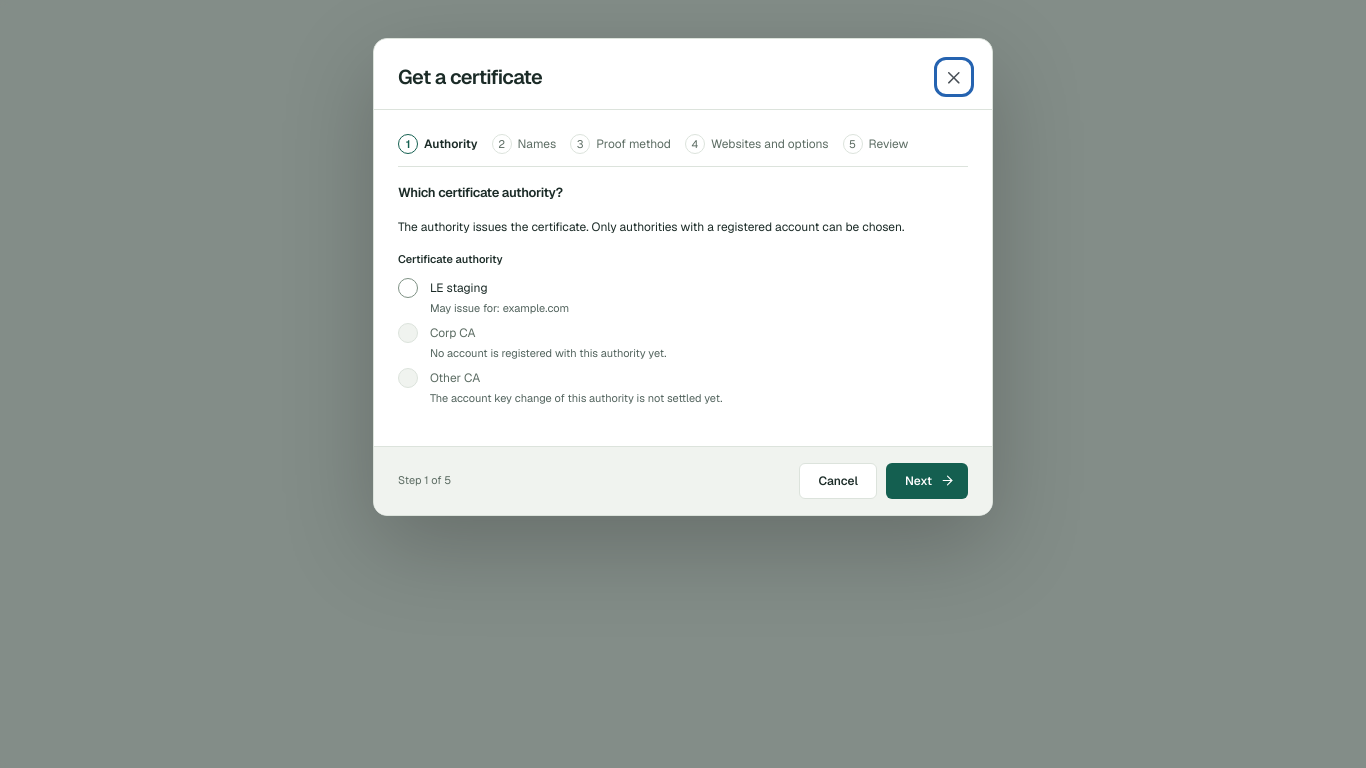
Scenario: Get a certificate › refuses the name bad_name.example.com before sending anything
Click the radio button labelled "LE staging".
click(408, 288)  # box [398,278,418,298]
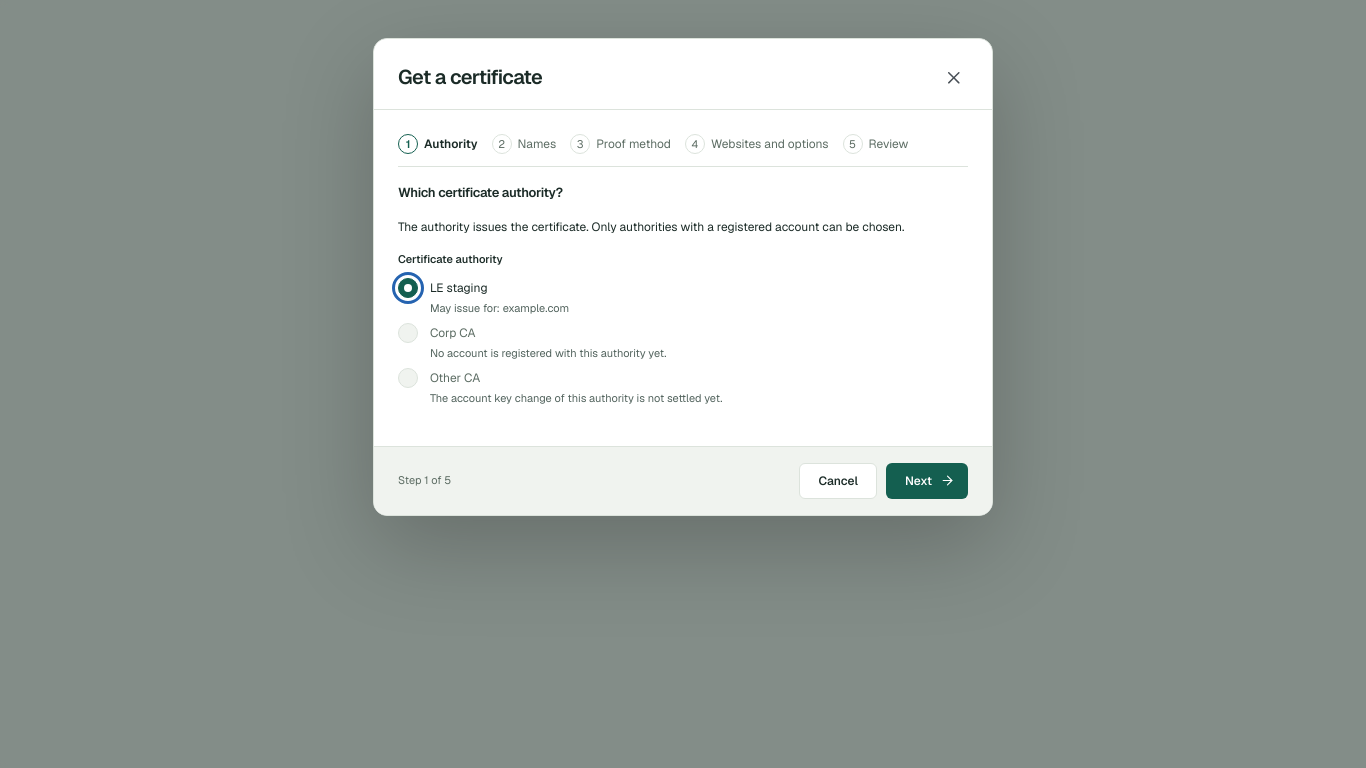
Click the button "Next".
click(927, 480)  # box [886,462,968,498]
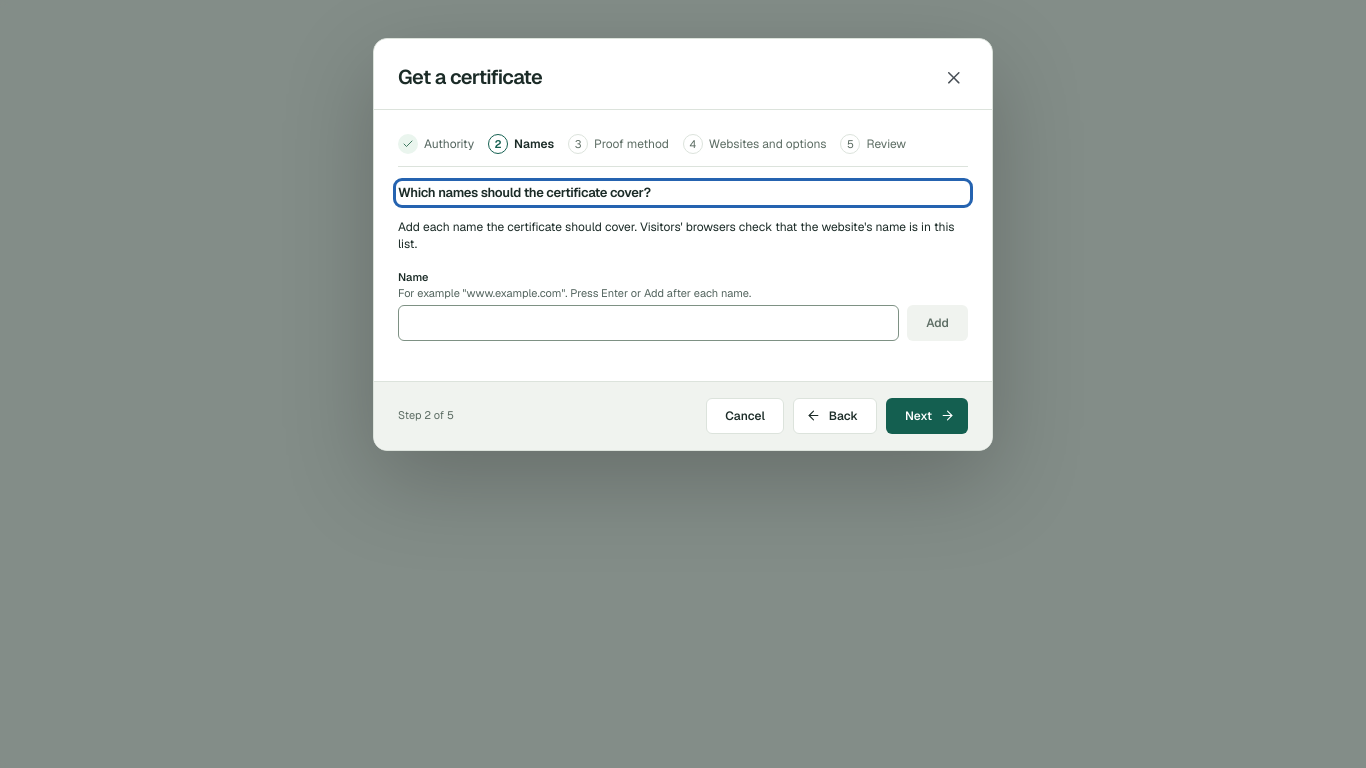
Type "bad_name.example.com" into the field labelled "Name".
click(649, 322); type("bad_name.example.com")  # box [398,304,899,340]
Then press Enter
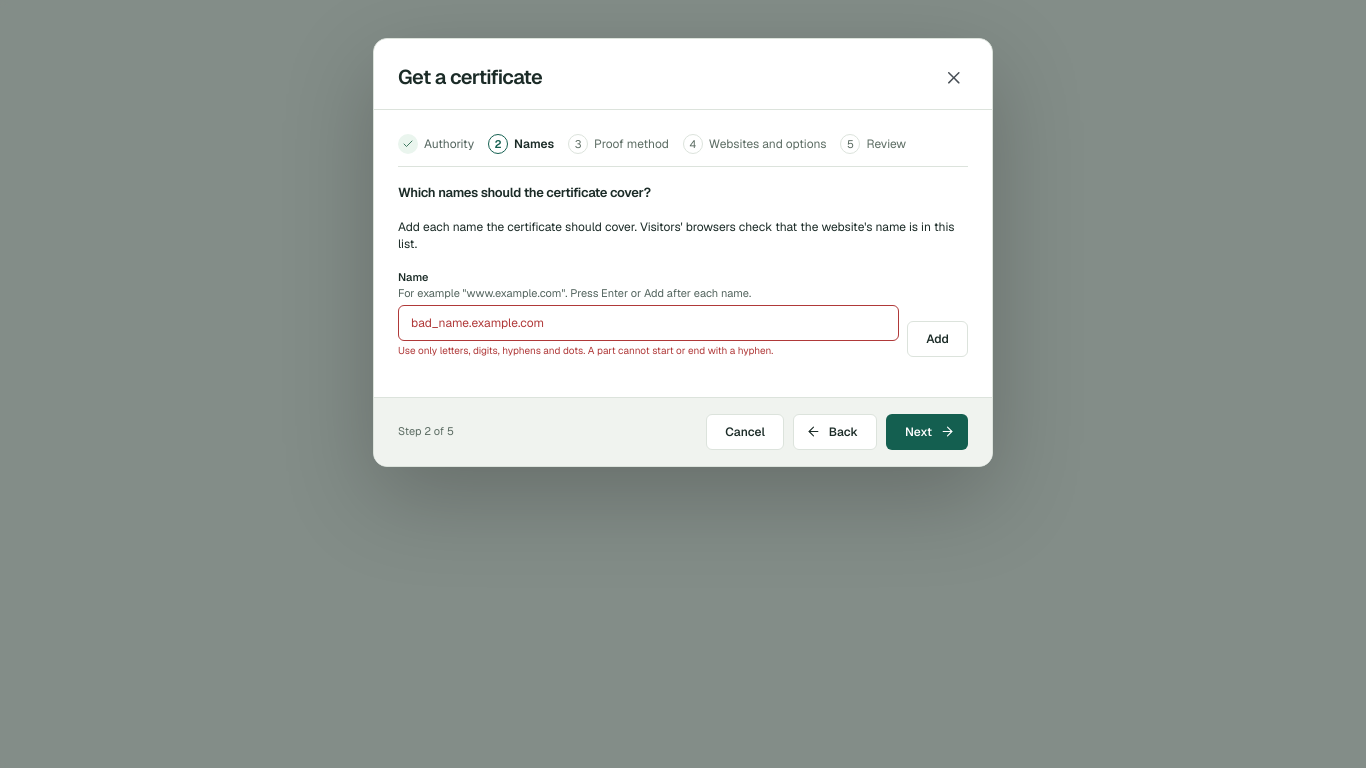
Now the text "Use only letters, digits, hyphens and dots. A part cannot start or end with a hyphen." is shown, box [398,344,773,356]
